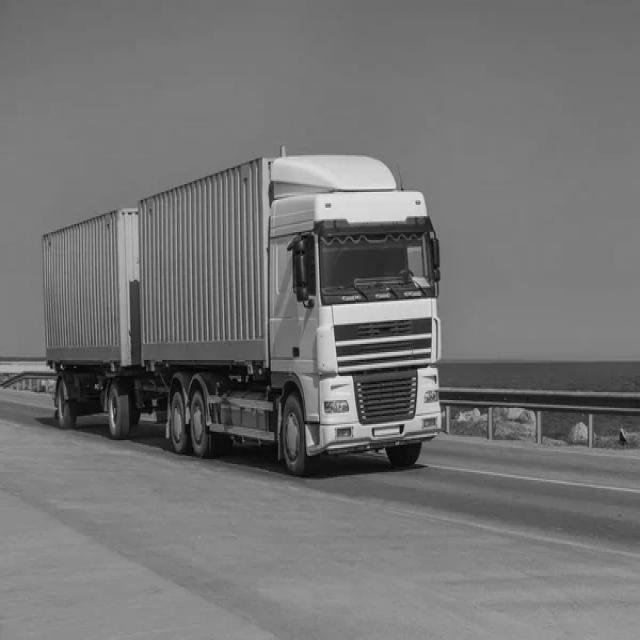Truck: (42, 157, 442, 473)
